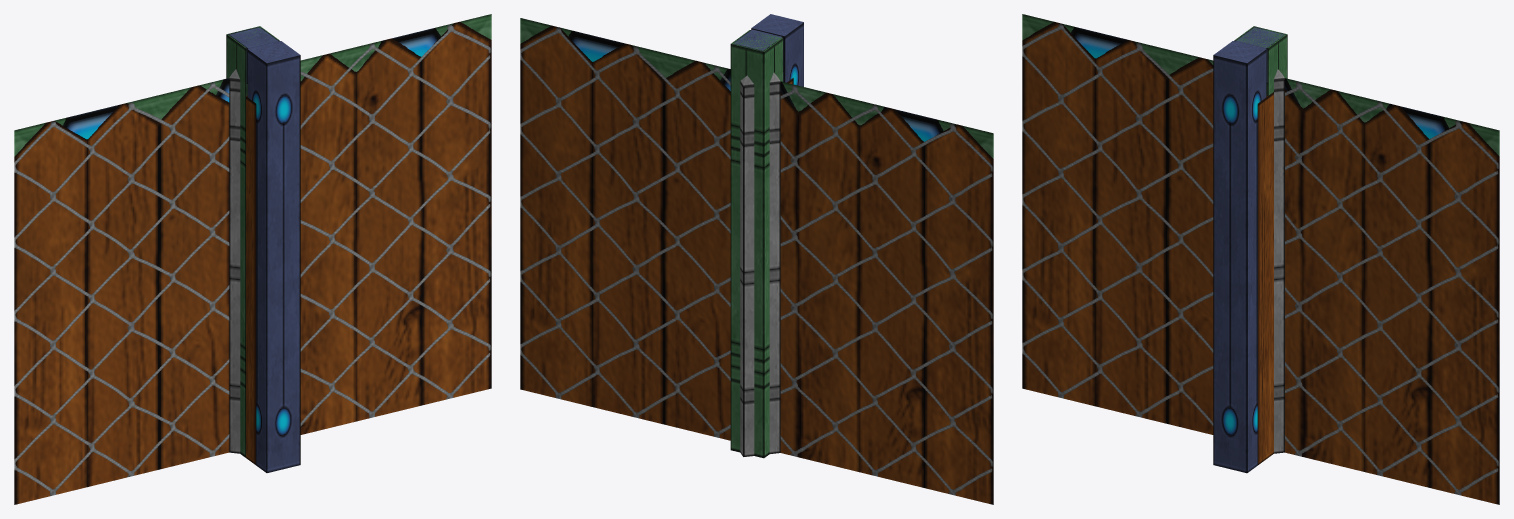
The model's file is fence_mesh.fbx.
3 views of the same model, side by side, from view 1: azimuth 30°, elevation 25°; view 2: azimuth 150°, elevation 25°; view 3: azimuth 330°, elevation 25° (orthographic).
Visible parts, largest first — view 1: Fence_B, Fence_Post_C, Fence_A, Fence_Post_A, Fence_Post_B, Fence_Post_D, Fence_D, Fence_C; view 2: Fence_B, Fence_A, Fence_Post_D, Fence_Post_A, Fence_D, Fence_Post_C, Fence_C; view 3: Fence_B, Fence_Post_C, Fence_A, Fence_Post_B, Fence_Post_A, Fence_D, Fence_C, Fence_Post_D.
Part boxes in pixels (box(x1,y1,x2,y2)): Fence_B: box(14, 21, 491, 504); Fence_Post_C: box(228, 26, 300, 472); Fence_A: box(14, 24, 491, 495); Fence_Post_A: box(229, 69, 240, 453); Fence_Post_B: box(246, 96, 256, 465); Fence_Post_D: box(226, 26, 279, 457); Fence_D: box(14, 14, 491, 156); Fence_C: box(63, 28, 440, 139); Fence_B: box(520, 25, 993, 504); Fence_A: box(520, 27, 993, 495); Fence_Post_D: box(730, 30, 783, 458); Fence_Post_A: box(740, 72, 780, 456); Fence_D: box(520, 18, 993, 158); Fence_Post_C: box(732, 14, 803, 86); Fence_C: box(568, 30, 943, 141); Fence_B: box(1022, 22, 1499, 504); Fence_Post_C: box(1213, 26, 1285, 473); Fence_A: box(1022, 23, 1499, 495); Fence_Post_B: box(1257, 92, 1273, 465); Fence_Post_A: box(1274, 69, 1284, 453); Fence_D: box(1022, 14, 1499, 155); Fence_C: box(1071, 27, 1448, 138); Fence_Post_D: box(1234, 26, 1287, 95).
Bounding box in the file's own units: 400 × 328 × 64.54.
